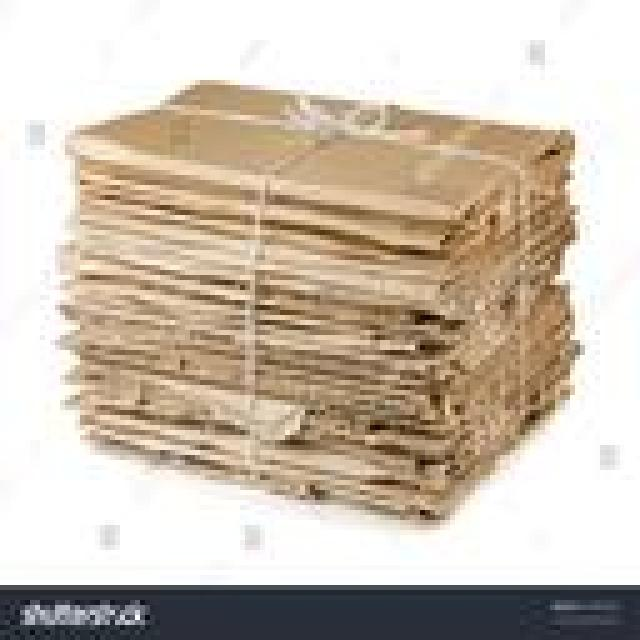cardboard: (55, 75, 575, 520)
